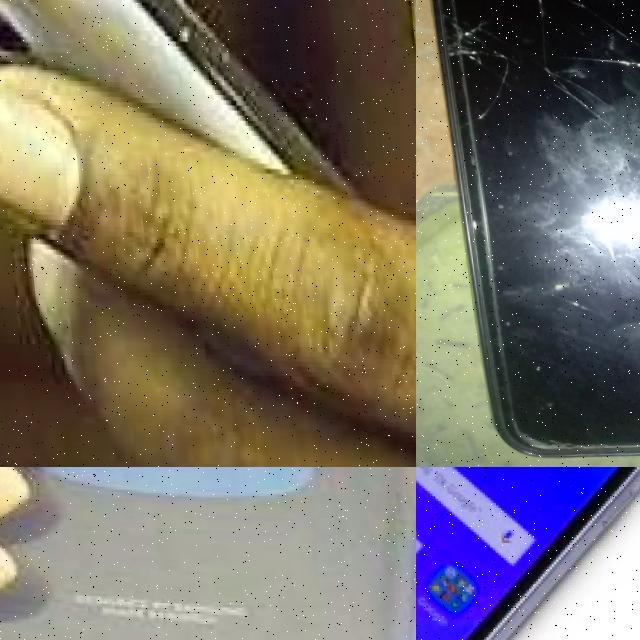screen crack: (422, 0, 519, 124)
